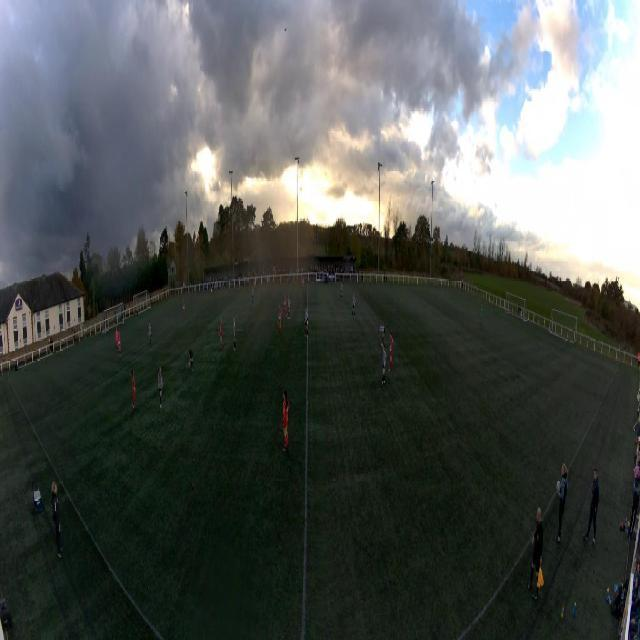ball: (188, 361, 190, 368)
player: (282, 390, 290, 447), (381, 340, 388, 382), (132, 369, 136, 411), (389, 330, 393, 370), (158, 367, 162, 407), (188, 345, 194, 371), (304, 307, 309, 336), (379, 323, 385, 347), (351, 292, 356, 318), (278, 304, 282, 335), (219, 317, 223, 347), (233, 317, 236, 352), (117, 332, 121, 358), (283, 292, 287, 317), (287, 294, 291, 319), (479, 304, 483, 325), (339, 282, 343, 299), (149, 323, 152, 345), (115, 328, 118, 350), (251, 285, 254, 305), (302, 274, 305, 290), (183, 300, 185, 319), (254, 276, 256, 292)
